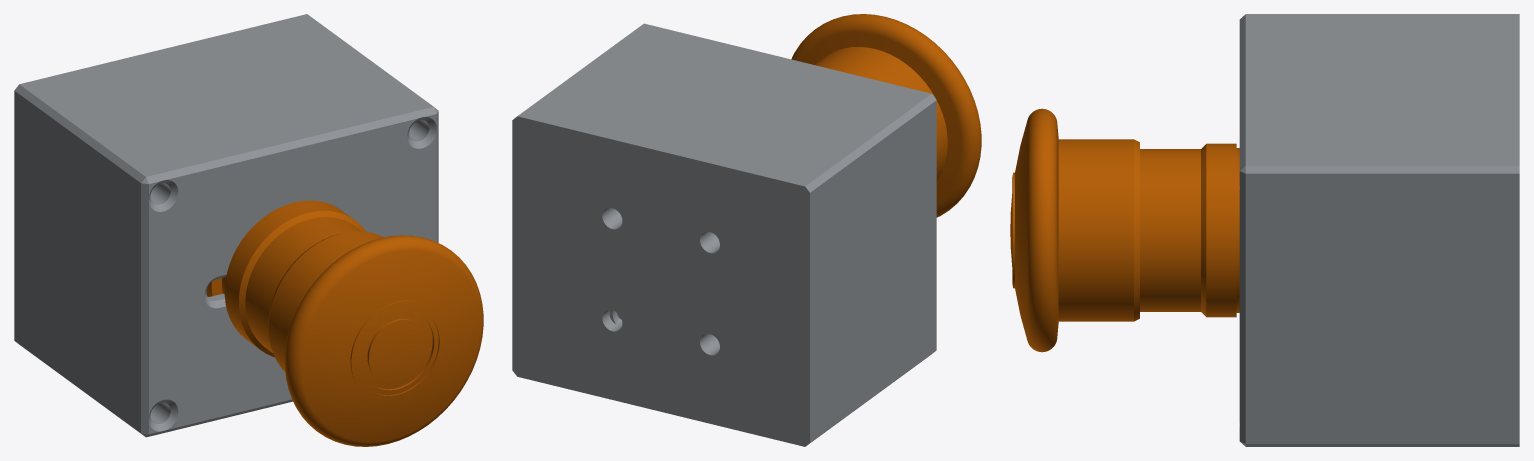
File: BAU.gltf
3 renders of one model, left to right at view 1: azimuth 30°, elevation 25°; view 2: azimuth 150°, elevation 25°; view 3: azimuth 270°, elevation 25°, orthographic. The views are drawn at different scales.
Visible parts, largest first — view 1: Part 1, Part 2, occurrence of 8153925_1; view 2: Part 1, occurrence of 8153925_1, Part 2; view 3: Part 1, occurrence of 8153925_1, Part 2.
Part boxes in pixels (x1,y1,x2,y2): Part 1: (14,14,427,430); Part 2: (135,102,438,437); occurrence of 8153925_1: (206,200,483,446); Part 1: (512,27,931,446); occurrence of 8153925_1: (791,14,981,217); Part 2: (639,23,936,355); Part 1: (1258,14,1519,446); occurrence of 8153925_1: (1010,108,1239,352); Part 2: (1239,14,1257,446).
Size of the model in its own units: 0.061 by 0.051 by 0.0837.
